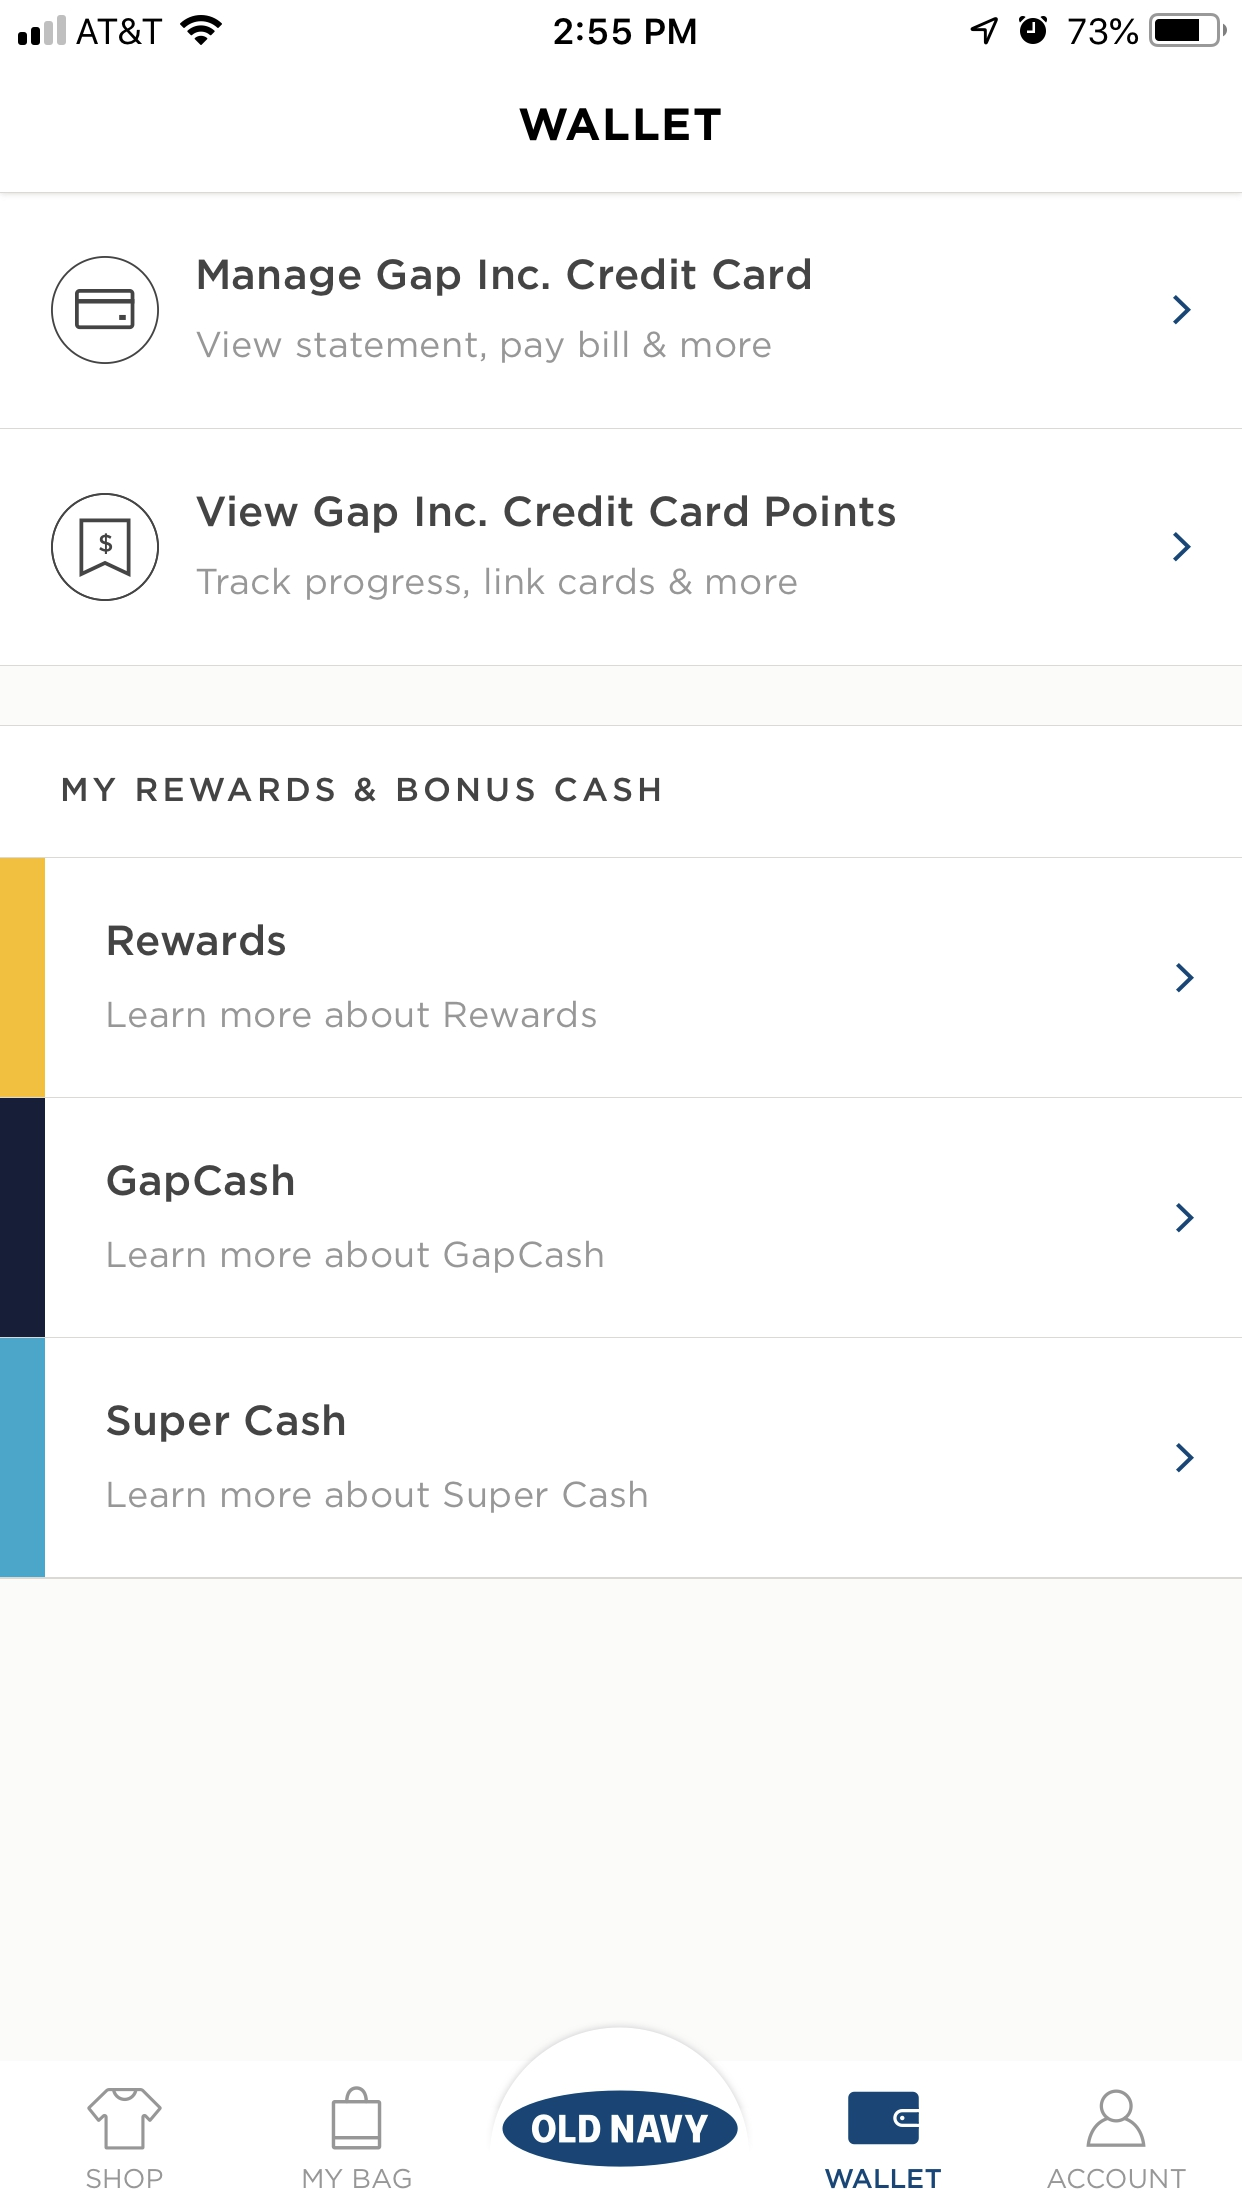Icon: (52, 493, 161, 604), (52, 256, 161, 365), (848, 2091, 921, 2144), (1086, 2090, 1146, 2147), (332, 2087, 384, 2150), (1175, 1442, 1195, 1473), (1175, 1203, 1195, 1233), (1175, 963, 1195, 993), (1174, 532, 1190, 563), (1174, 296, 1190, 325)
Image: (503, 2090, 739, 2167), (86, 2087, 164, 2150)
Text: (196, 494, 896, 535), (199, 256, 811, 299), (197, 569, 798, 602), (197, 331, 770, 364), (108, 1480, 648, 1515), (108, 1239, 604, 1275), (64, 776, 661, 804), (108, 999, 597, 1030), (108, 1403, 346, 1444), (519, 108, 722, 143), (108, 1165, 294, 1203), (109, 928, 287, 958), (1046, 2169, 1187, 2188), (825, 2169, 942, 2188), (303, 2169, 412, 2188), (86, 2169, 164, 2188)
UpperTaskBar: (2, 2, 1242, 49)
